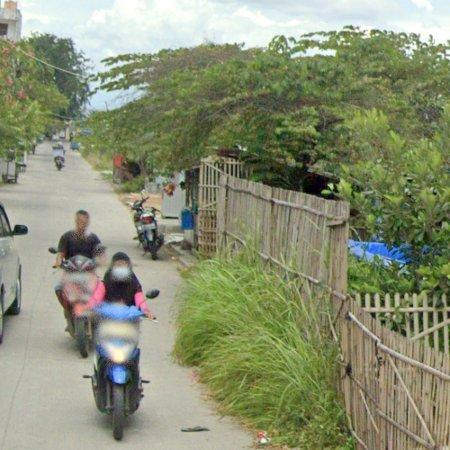motorcycles: (91, 303, 143, 441), (55, 256, 106, 359), (132, 197, 164, 260)
